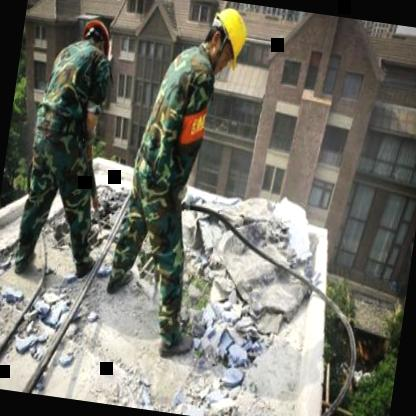helmet: (200, 0, 252, 74), (74, 12, 116, 58)
